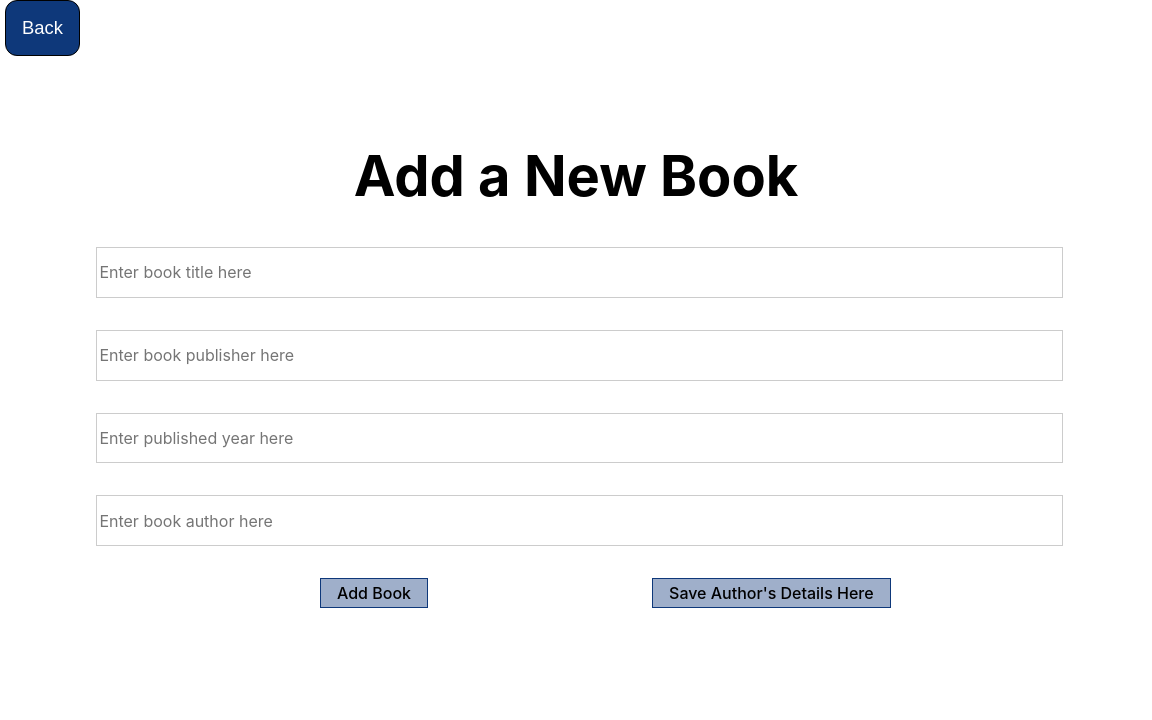
it: AddBook › Test functionality of adding new book on button click
The width and height of the screenshot is (1152, 720).
Note: Set input values via the elements on the component
Type "012345678901234567890123456789012345678912345" into the field with placeholder "Enter book title here" at (579, 272), box [96, 247, 1063, 298]
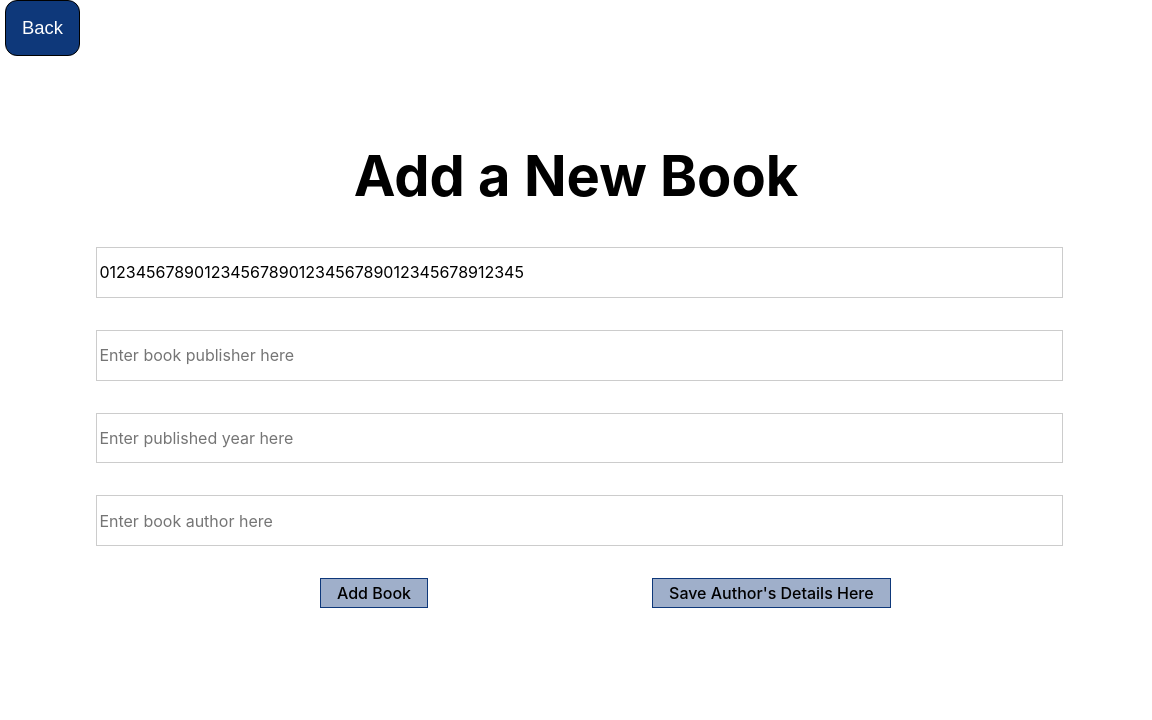
Type "012345678901234567890123456789012345678912345" into the field with placeholder "Enter book publisher here" at (579, 355), box [96, 330, 1063, 381]
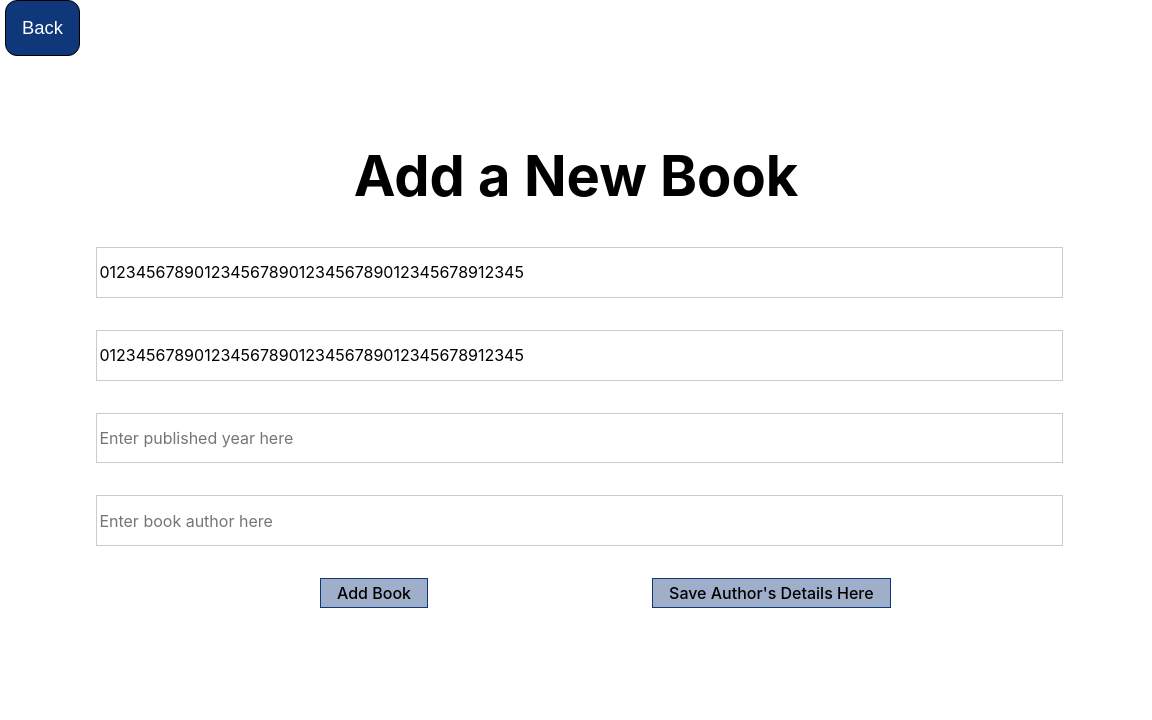
Type "2020" into the number field with placeholder "Enter published year here" at (579, 438), box [96, 413, 1063, 463]
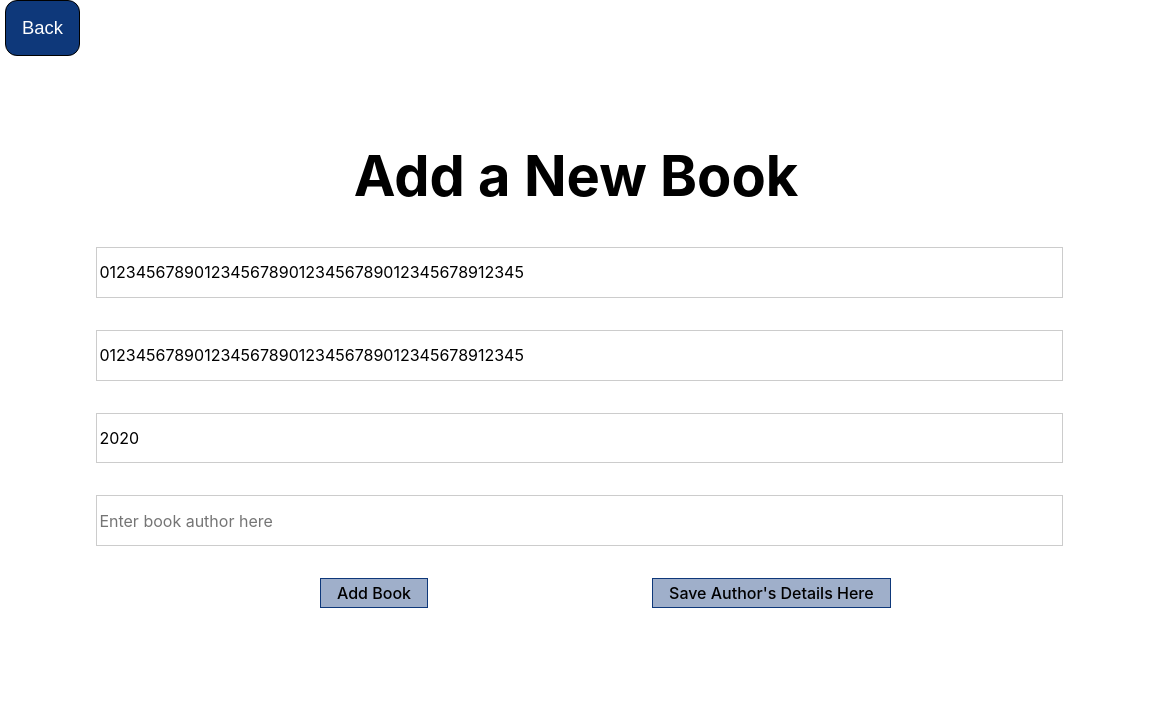
Type "012345678901234567890123456789012345678912345" into the field with placeholder "Enter book author here" at (579, 521), box [96, 495, 1063, 546]
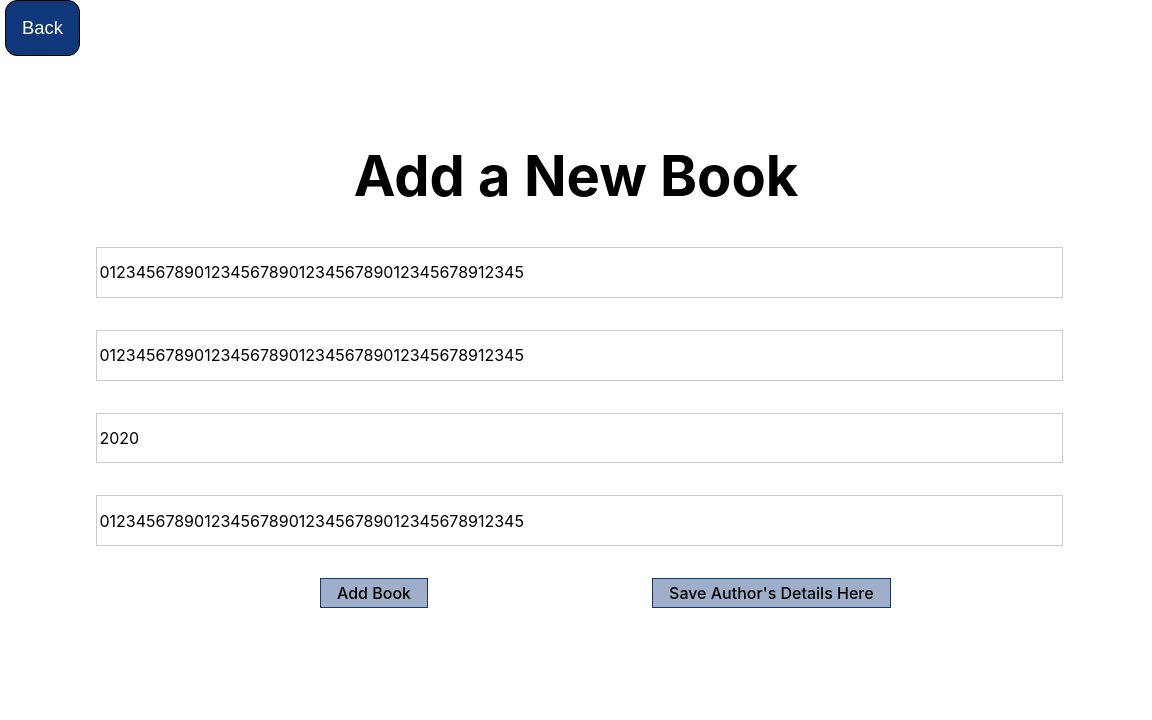
Note: Click add book button on the component
Click the button "Add Book" at (374, 593), box [320, 578, 428, 608]
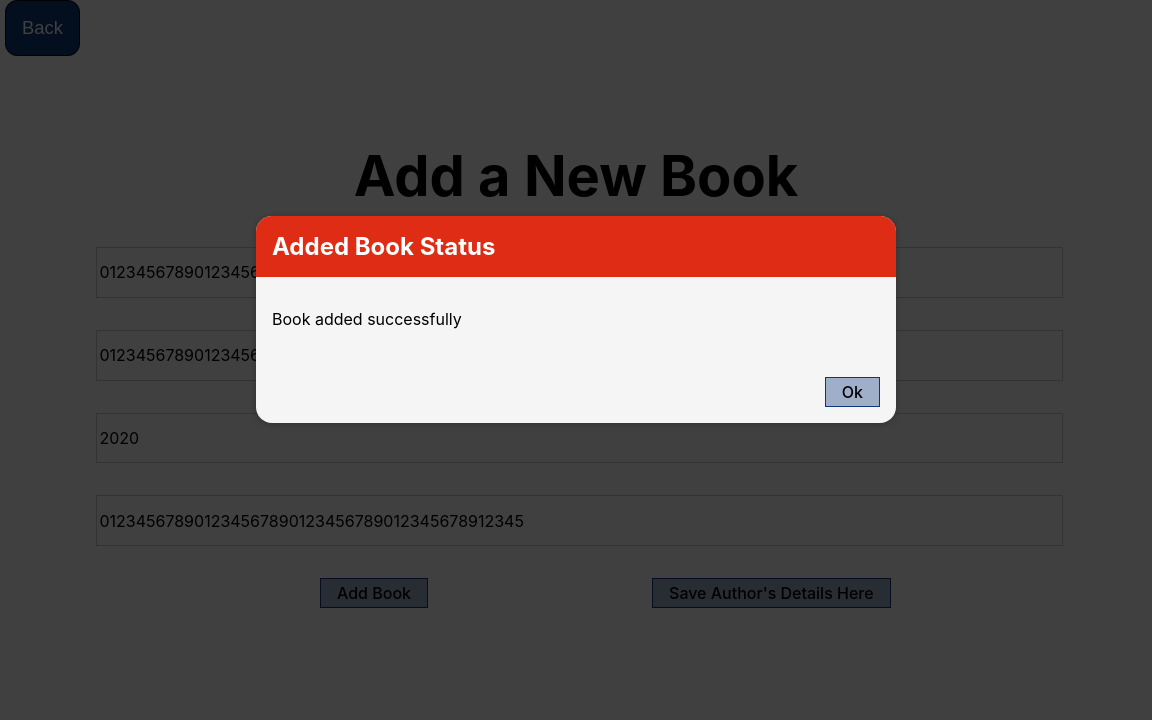
Expected: the heading "Added Book Status" is shown, [272, 232, 495, 261]
Expected: the text "Book added successfully" is shown, [272, 309, 462, 329]
